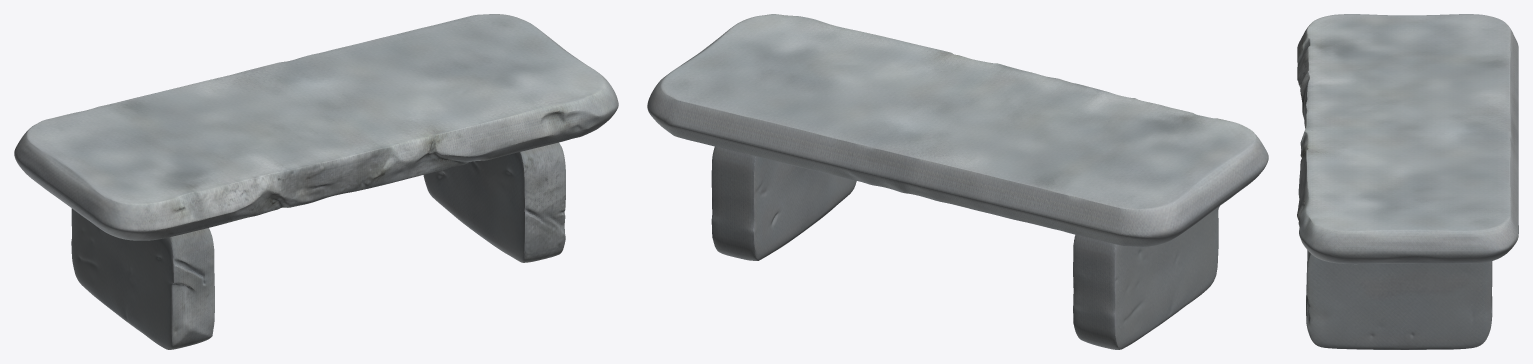
File: unam_banca_cantera.glb
The picture shows the model from 3 angles, left to right: view 1: azimuth 30°, elevation 25°; view 2: azimuth 150°, elevation 25°; view 3: azimuth 270°, elevation 25°; orthographic projection. The views are drawn at different scales.
Visible parts, largest first — view 1: model; view 2: model; view 3: model.
Boxes of the visible parts, x1,y1,x2,y2 form: model: (14,14,618,349); model: (647,14,1268,349); model: (1297,14,1518,349).
Size of the model in its own units: 1.84 by 0.5545 by 0.763.
1 material, 1 textured.
